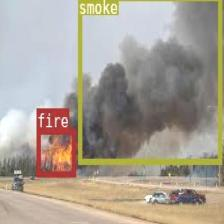fire: (36, 128, 75, 176)
smoke: (77, 0, 221, 163)
